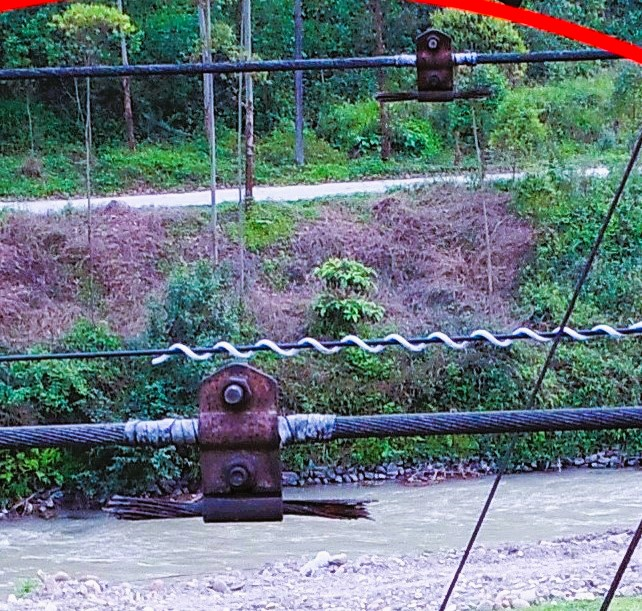Damage of shockproof hammer: (95, 356, 393, 541), (369, 22, 500, 115)
